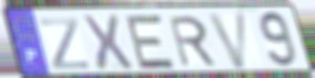9: (259, 10, 300, 70)
E: (124, 13, 178, 72)
R: (167, 15, 220, 70)
V: (205, 11, 250, 71)
X: (79, 14, 136, 74)
Z: (39, 17, 92, 72)
